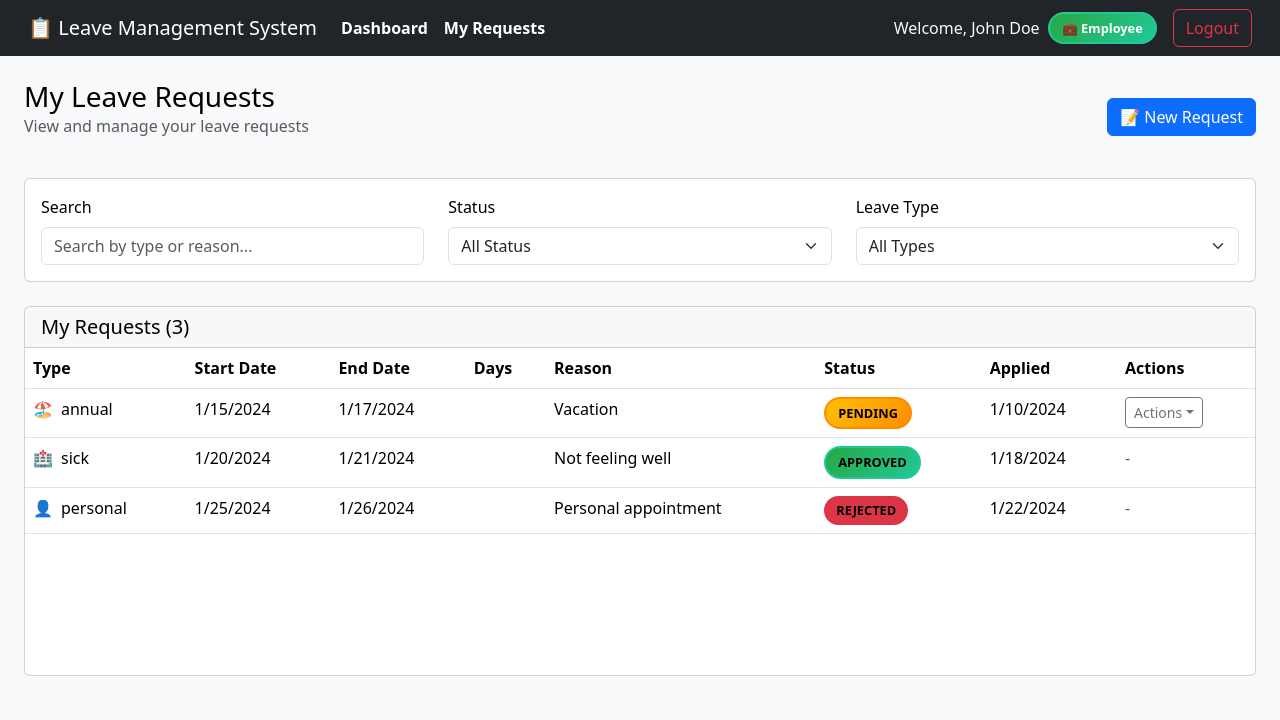
LeaveRequestsPage Component › filters requests by status
Expected: the heading "My Leave Requests" is shown, x1=24 y1=80 x2=309 y2=114
Select "Approved" in the 1st dropdown showing "All Status" at (640, 246), box x1=448 y1=227 x2=832 y2=265
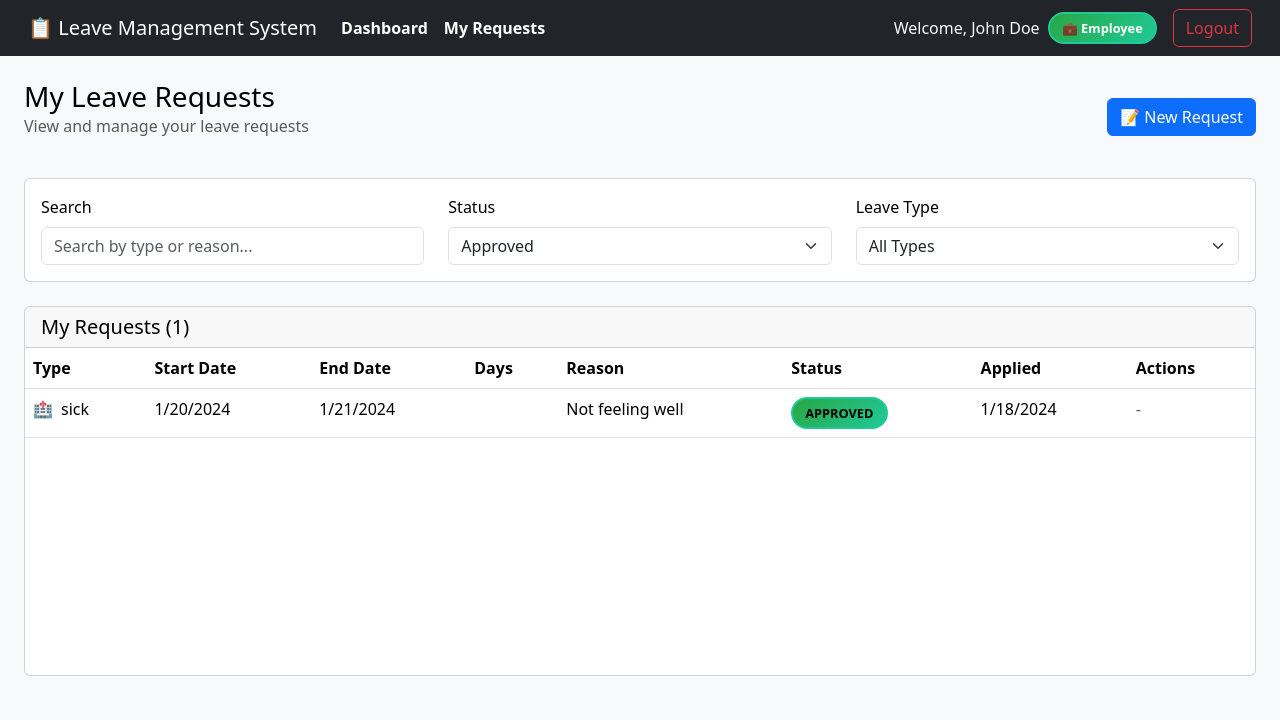
Expected: the text "Not feeling well" is shown, x1=566 y1=398 x2=684 y2=420
Expected: the text "Vacation" is gone
